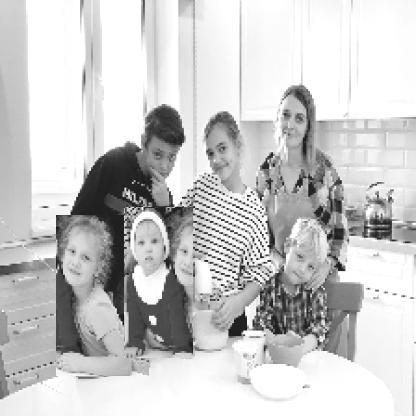child: (57, 216, 151, 378), (125, 208, 195, 360), (259, 218, 332, 353)
